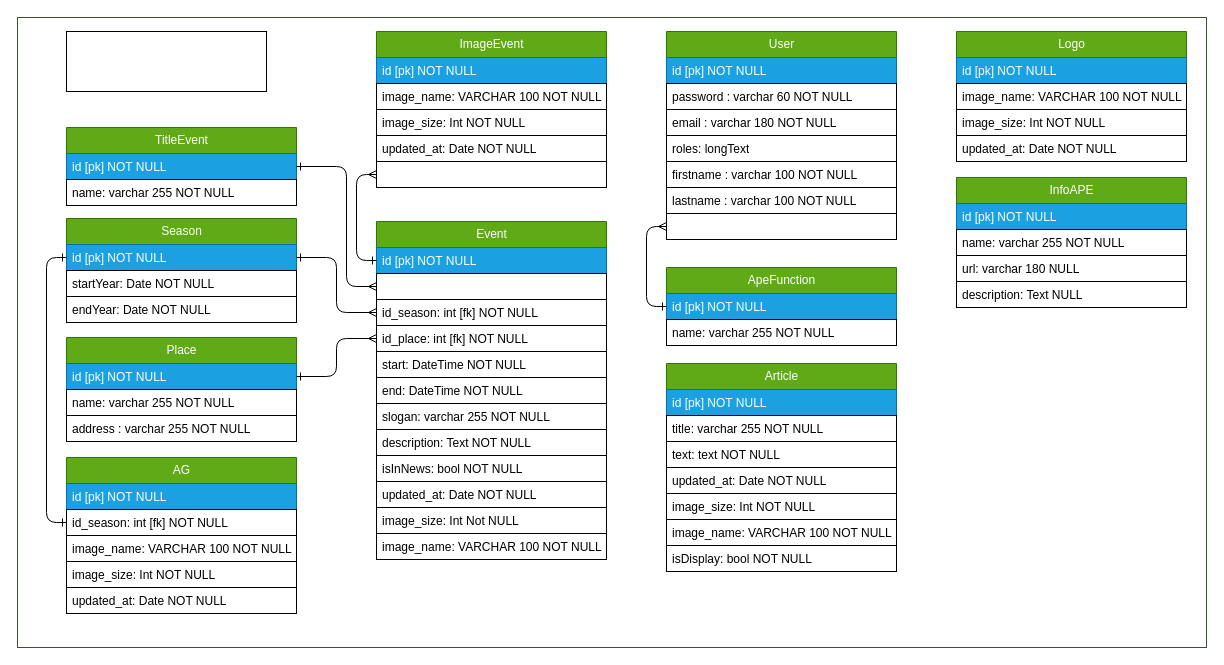
The diagram is 1224 pixels wide and 665 high, and some of its shapes have lost their labels. Here are the shapes that lost their labels. From the top down, the centre of each, then its label:
(166,61): diagram ER
(491,174): id_Event: TEXT NOT NULL
(781,226): id_apeFunction : TEXT NOT NULL
(491,286): id_eventTitle: int [fk] NOT NULL
